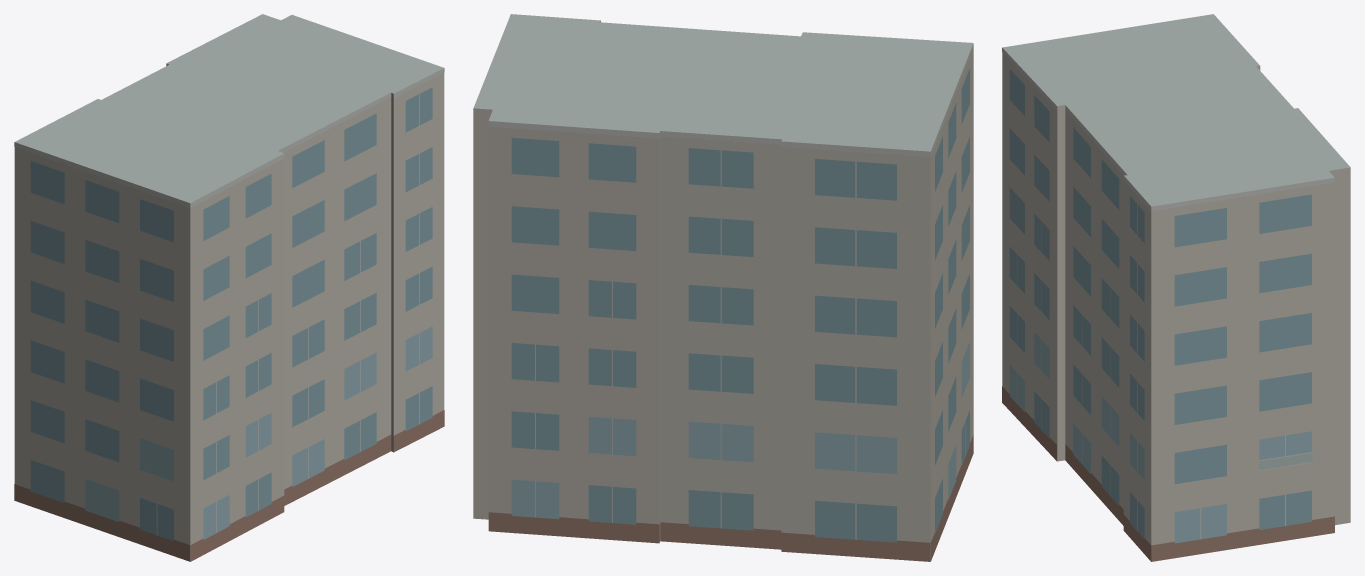
Rendered from survey-upis-32522264.glb.
The picture shows the model from 3 angles, left to right: view 1: azimuth 30°, elevation 25°; view 2: azimuth 150°, elevation 25°; view 3: azimuth 270°, elevation 25°; orthographic projection. The views are drawn at different scales.
Visible parts, largest first — view 1: survey-upis-32522264.tmp; view 2: survey-upis-32522264.tmp; view 3: survey-upis-32522264.tmp.
Boxes of the visible parts, left/top/right/bottom form: survey-upis-32522264.tmp: left=14, top=14, right=444, bottom=561; survey-upis-32522264.tmp: left=473, top=14, right=973, bottom=561; survey-upis-32522264.tmp: left=1002, top=14, right=1350, bottom=561.
Size of the model in its own units: 21.29 by 18.3 by 16.28.
